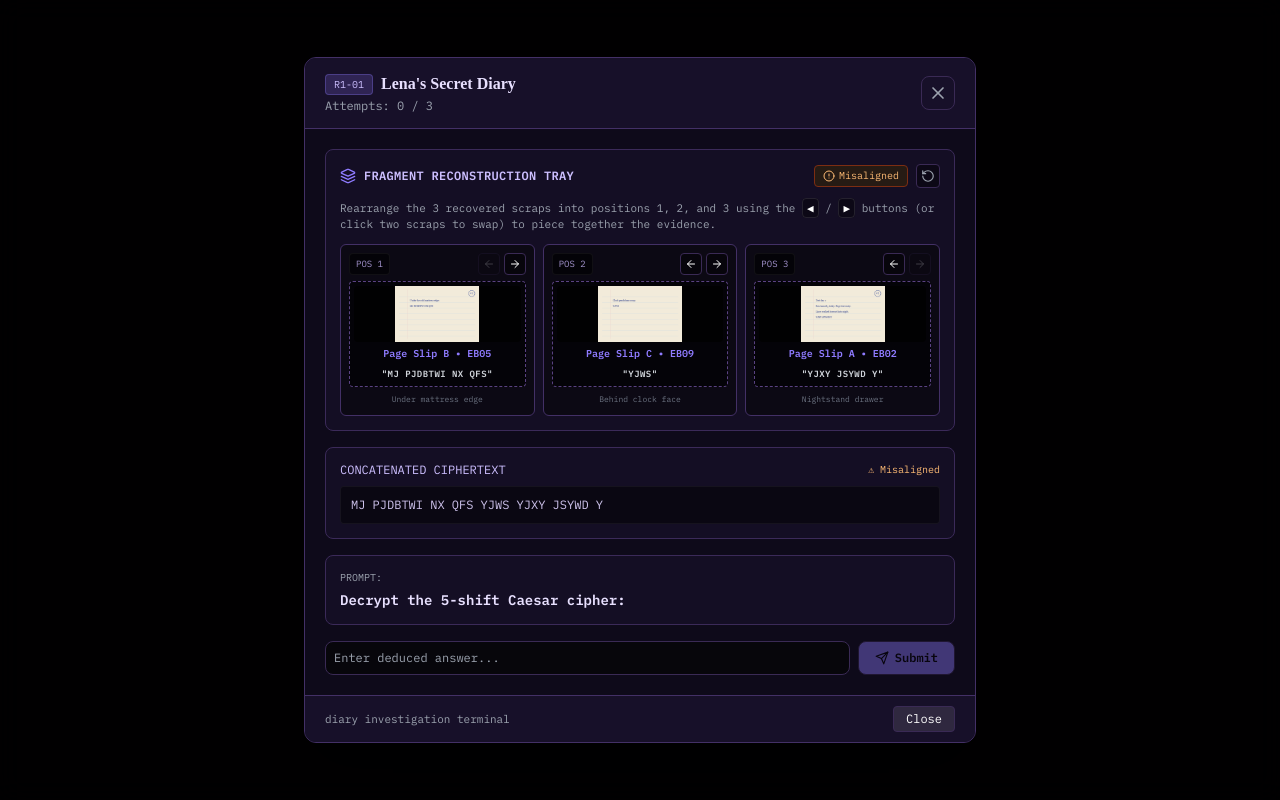
it: Room 1 (Lena's Bedroom) Comprehensive Test Suite (50 Tests) › QA-R1-FE-35: test_room1_clue_modal_displays_inline_error_message_on_wrong_answer
This screenshot has width=1280, height=800.
Step 1. Type "WRONG_GUESS" into the field with placeholder "Enter deduced answer..." → (587, 658), box [325,641,850,675]
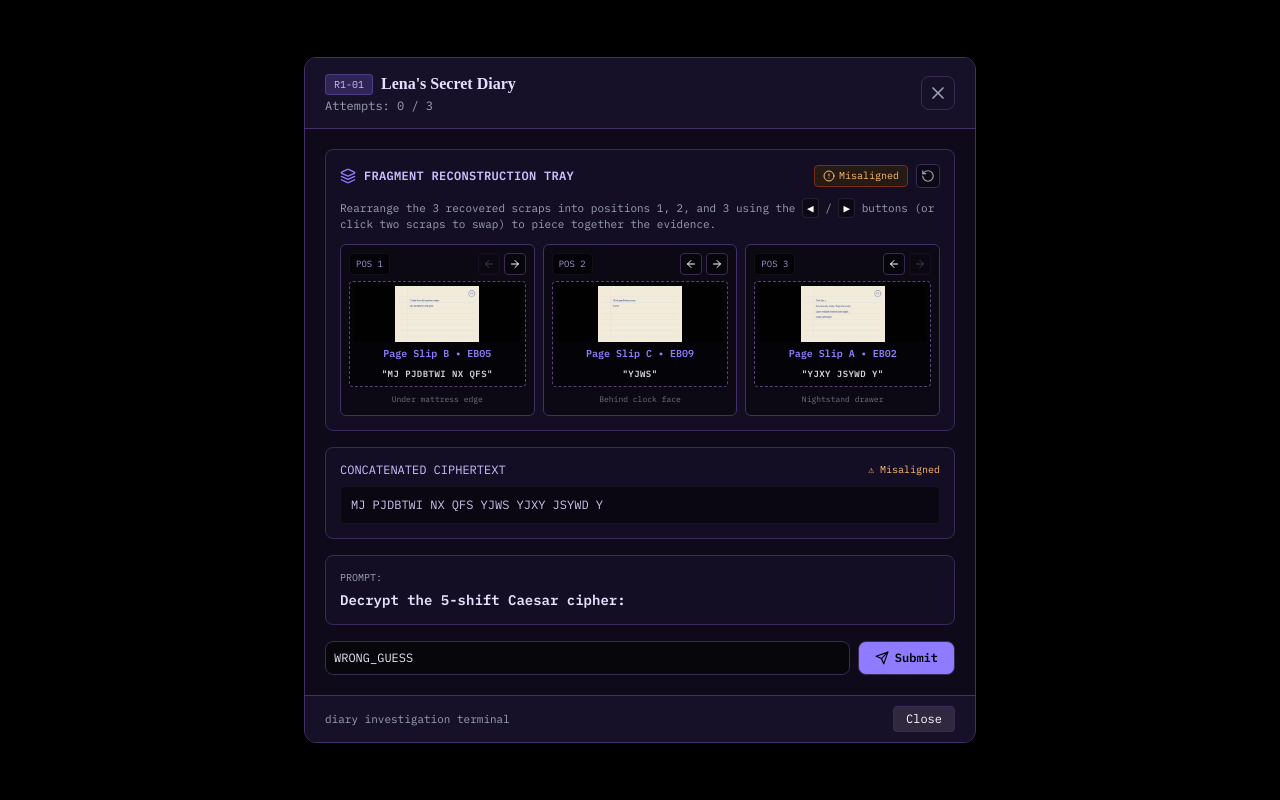
Step 2. Click the button "Submit" → (906, 658), box [858,641,955,675]
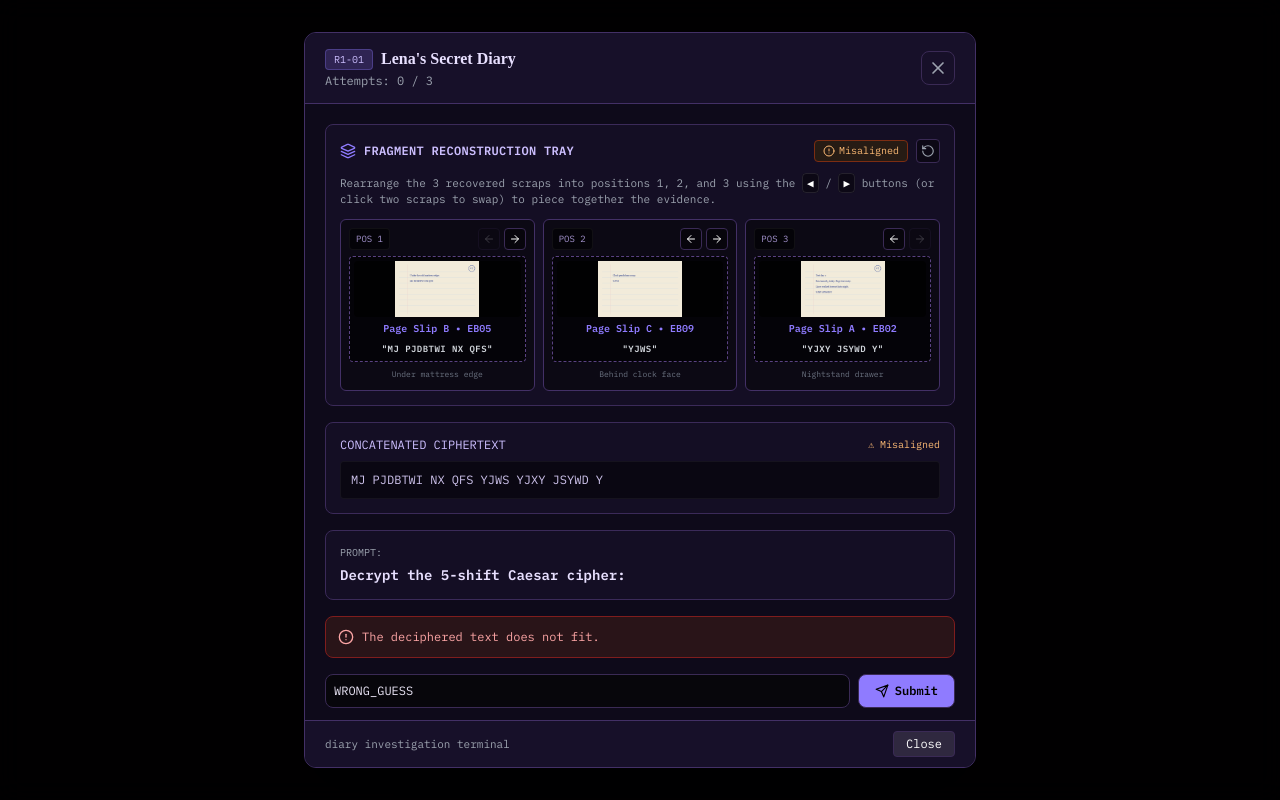
Expected: the text "The deciphered text does not fit." is shown, [362,629,600,645]
